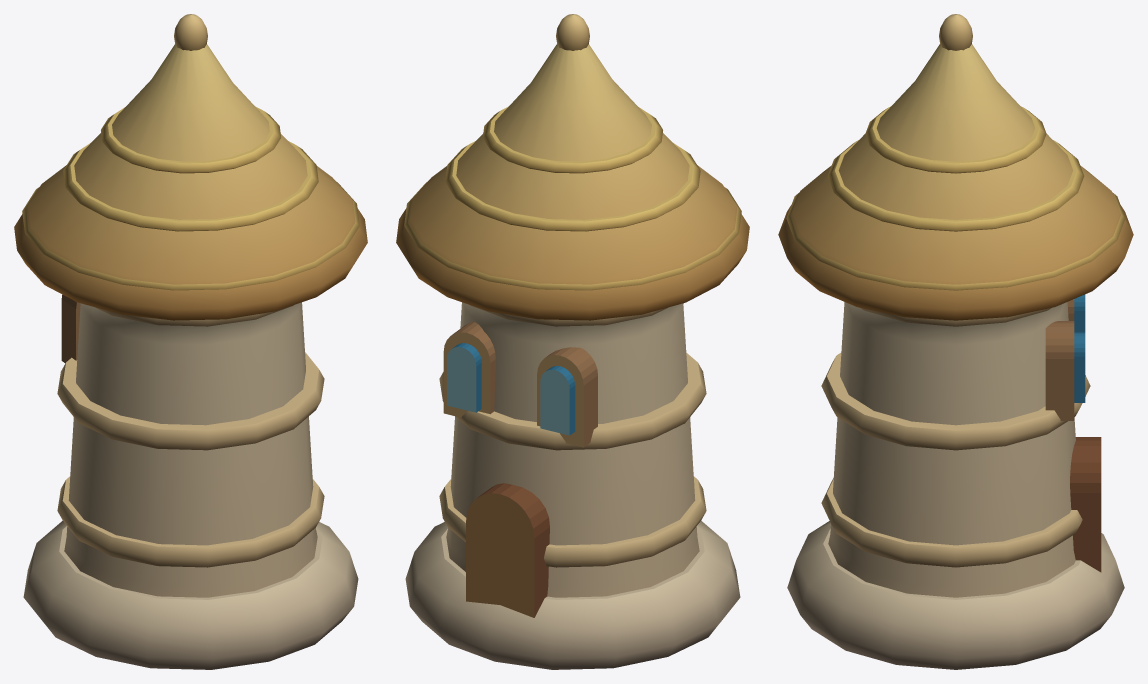
Rendered from Origin_Fairytale_Lookout.glb.
3 renders of one model, left to right at view 1: azimuth 30°, elevation 25°; view 2: azimuth 150°, elevation 25°; view 3: azimuth 270°, elevation 25°, orthographic.
Visible parts, largest first — view 1: Origin_Fairytale_Lookout; view 2: Origin_Fairytale_Lookout; view 3: Origin_Fairytale_Lookout.
Boxes of the visible parts, box(x1,y1,x2,y2) form: Origin_Fairytale_Lookout: box(14, 14, 367, 669); Origin_Fairytale_Lookout: box(396, 14, 749, 669); Origin_Fairytale_Lookout: box(778, 14, 1133, 669).
Size of the model in its own units: 1.98 by 3.62 by 1.98.
